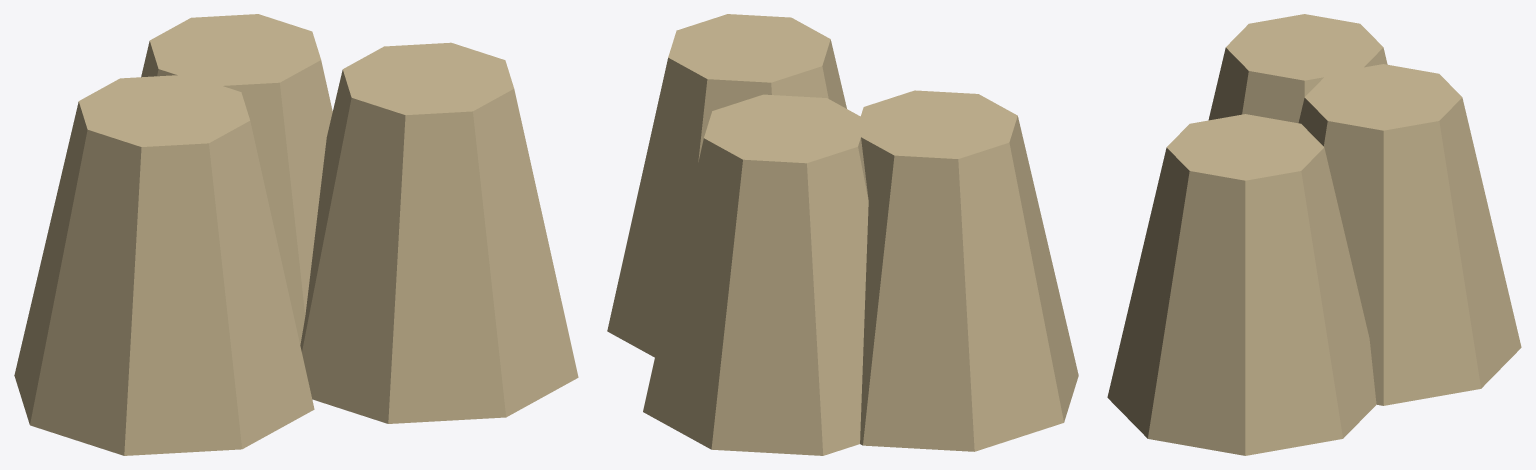
Rendered from capital-sacks.glb.
3 renders of one model, left to right at view 1: azimuth 30°, elevation 25°; view 2: azimuth 150°, elevation 25°; view 3: azimuth 270°, elevation 25°, orthographic. The views are drawn at different scales.
Parts seen in each view (by area): view 1: Building; view 2: Building; view 3: Building.
Part boxes in pixels (bbox=[...]): Building: bbox=[14, 14, 578, 455]; Building: bbox=[607, 14, 1078, 455]; Building: bbox=[1107, 14, 1521, 455].
Bounding box in the file's own units: 26 × 14 × 21.
